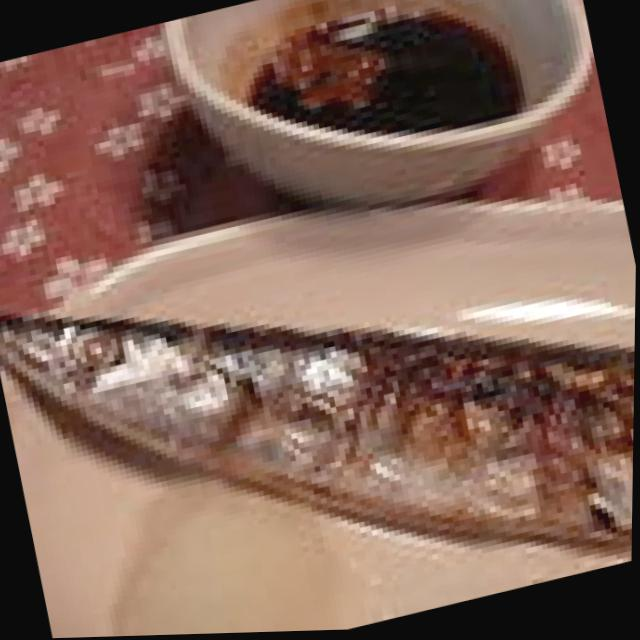熟制海鲜: (0, 127, 638, 640)
